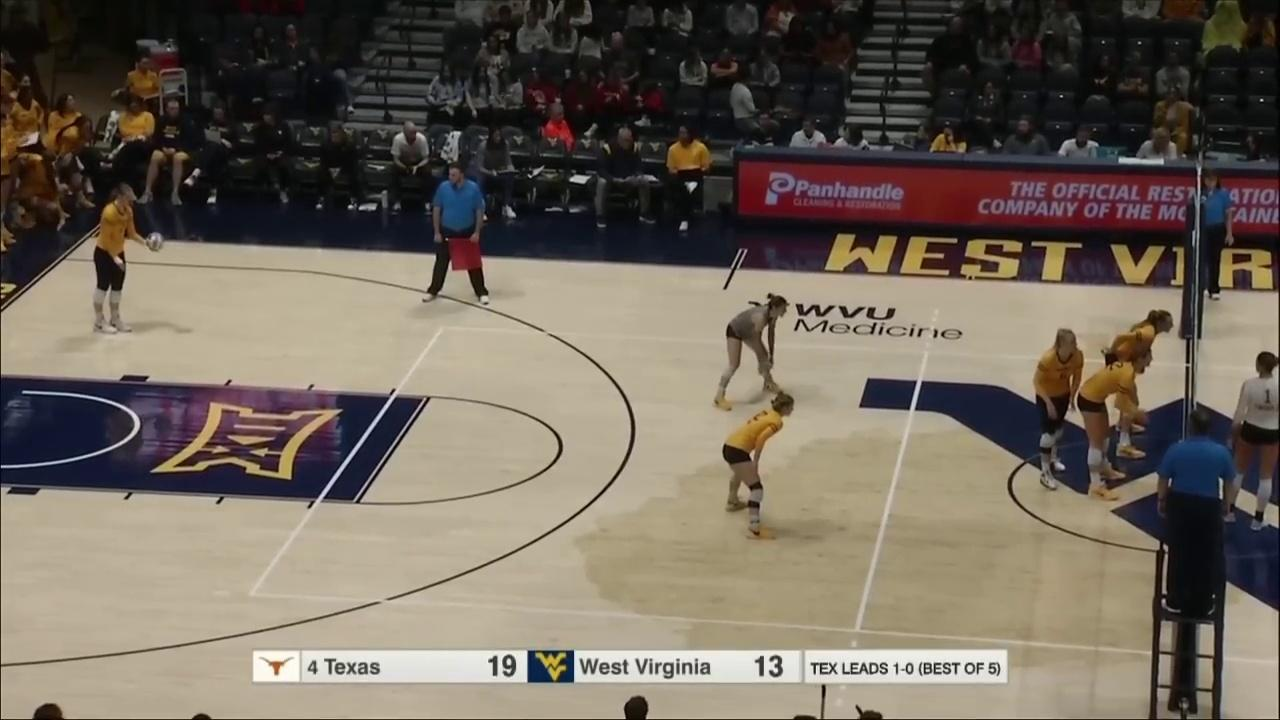player: (1076, 342, 1155, 502), (722, 395, 797, 545), (1104, 305, 1174, 459), (1223, 346, 1280, 533), (710, 295, 789, 412), (1031, 329, 1085, 490), (93, 188, 144, 340)
refree: (1156, 409, 1236, 620), (423, 167, 493, 306), (1185, 169, 1236, 305)
